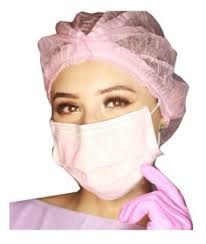with_mask_and_cap: (49, 12, 169, 201)
